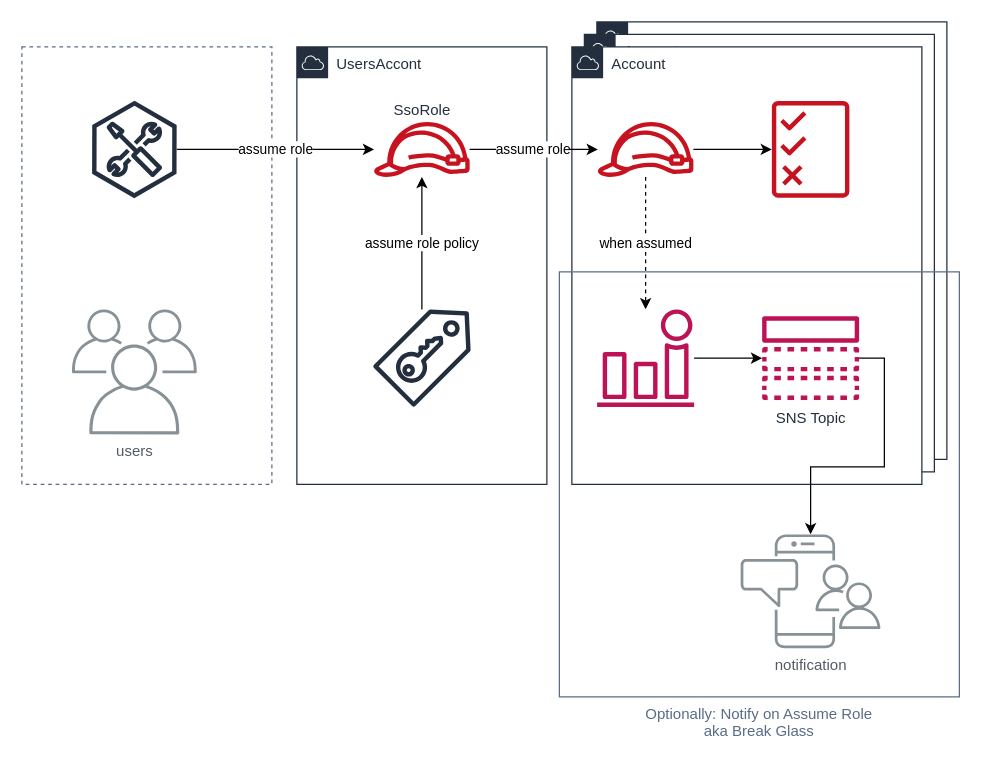
Image size: 981x763. Some labels were removed from this diagram. Here are the shapes that lost their labels. From the top down, the box of each, then its label:
(596, 121, 694, 176): Role
(21, 46, 272, 484): External SSO Provider
(372, 309, 470, 406): Identity Provider
(596, 309, 694, 406): Assume Role Alarm
